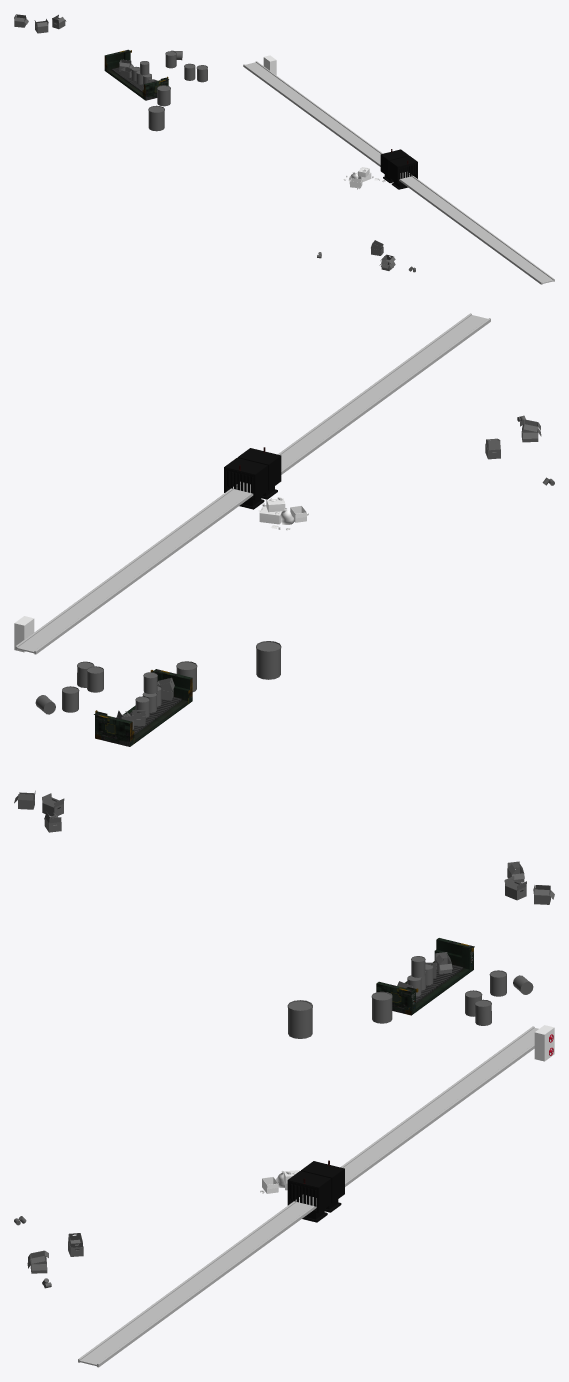
File: L1E1_HareketliAssetler.fbx
3 renders of one model, top to bottom at view 1: azimuth 30°, elevation 25°; view 2: azimuth 150°, elevation 25°; view 3: azimuth 330°, elevation 25°, orthographic. The views are drawn at different scales.
Visible parts, largest first — view 1: Cube.002_4, Cube.002_3, hydraulicpressStation_3, Cube.002, Cube.002_2, Cube.005, Cube.005_2; view 2: Cube.002_3, Cube.002_4, hydraulicpressStation_3, Cube.002_2, Cube.002, Cube.005_2, Cube.005, pCube815_33; view 3: Cube.002_4, Cube.002_3, hydraulicpressStation_3, Cube.002, Cube.002_2, Cube.005, Cube.005_2, pCube815_33, Hareketli Dekor.
Part boxes in pixels (box(x1,y1,x2,y2)): Cube.002_4: box(400, 172, 553, 283); Cube.002_3: box(245, 62, 380, 163); hydraulicpressStation_3: box(104, 49, 168, 100); Cube.002: box(399, 172, 554, 284); Cube.002_2: box(243, 61, 382, 166); Cube.005: box(389, 156, 417, 189); Cube.005_2: box(380, 149, 409, 183); Cube.002_3: box(16, 482, 250, 653); Cube.002_4: box(280, 315, 487, 469); hydraulicpressStation_3: box(94, 669, 192, 746); Cube.002_2: box(16, 481, 253, 654); Cube.002: box(277, 313, 490, 474); Cube.005_2: box(224, 458, 267, 509); Cube.005: box(237, 448, 281, 499); pCube815_33: box(256, 649, 280, 679); Cube.002_4: box(79, 1195, 316, 1366); Cube.002_3: box(343, 1028, 538, 1181); hydraulicpressStation_3: box(376, 938, 474, 1015); Cube.002: box(78, 1194, 316, 1367); Cube.002_2: box(340, 1026, 534, 1186); Cube.005: box(287, 1171, 331, 1222); Cube.005_2: box(301, 1161, 344, 1212); pCube815_33: box(288, 1008, 312, 1038); Hareketli Dekor: box(534, 1025, 554, 1061).
Bounding box in the file's own units: 5.48 × 0.9318 × 24.91.
Materials: 8 (2 with a texture image).
